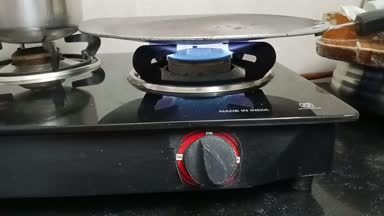flame_gas_on: (119, 37, 294, 192)
